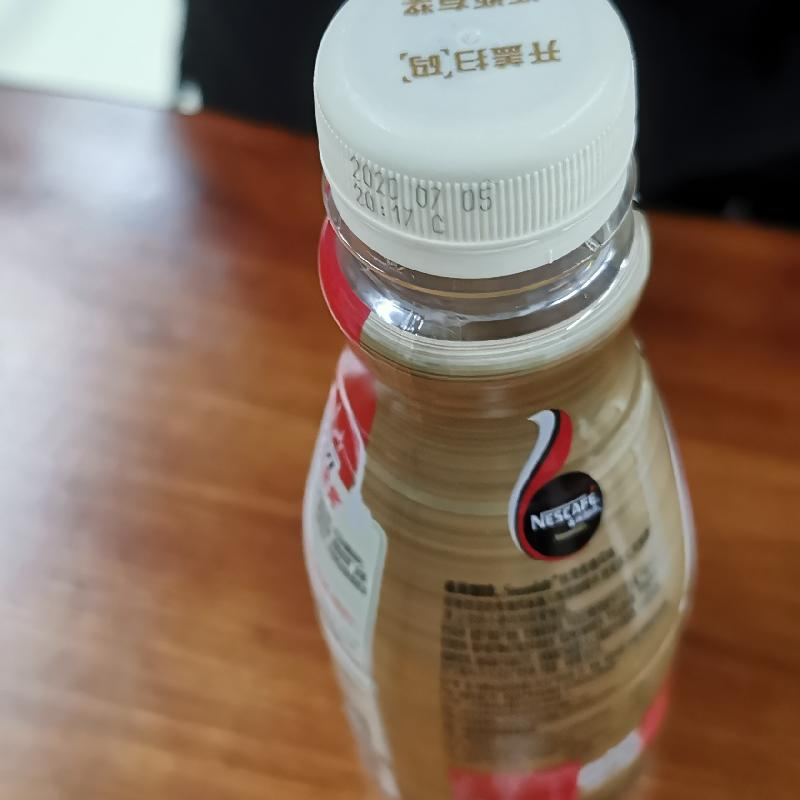bottles: (280, 2, 700, 799)
